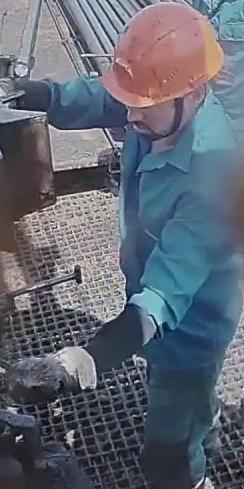gloves: (4, 345, 97, 405)
helmet: (100, 0, 224, 108)
vest: (117, 96, 240, 374)
